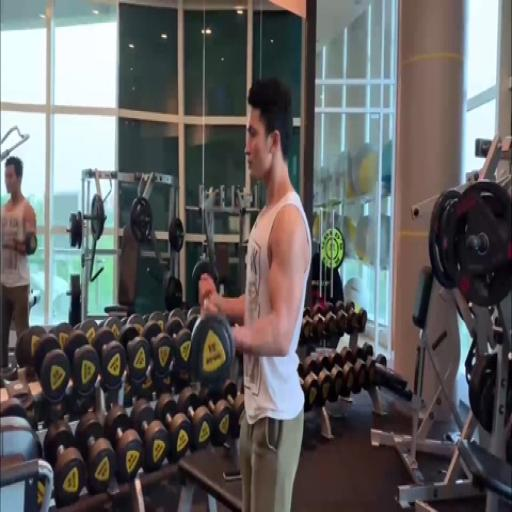exercise: (195, 76, 315, 510), (0, 154, 41, 382)
